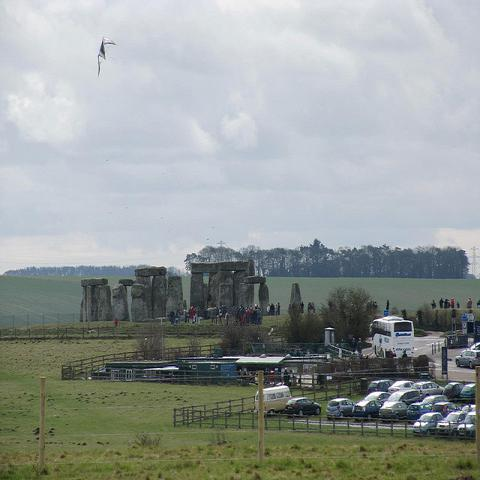bus: (371, 318, 411, 353)
car: (202, 287, 479, 381), (436, 411, 468, 437), (285, 397, 321, 420), (412, 412, 444, 436), (386, 387, 422, 406), (326, 397, 354, 420), (413, 381, 445, 401), (352, 398, 385, 417), (407, 402, 434, 424), (457, 411, 477, 438), (455, 348, 479, 369), (379, 402, 409, 418), (367, 379, 394, 396), (389, 380, 415, 394)
truck: (254, 386, 292, 414)
